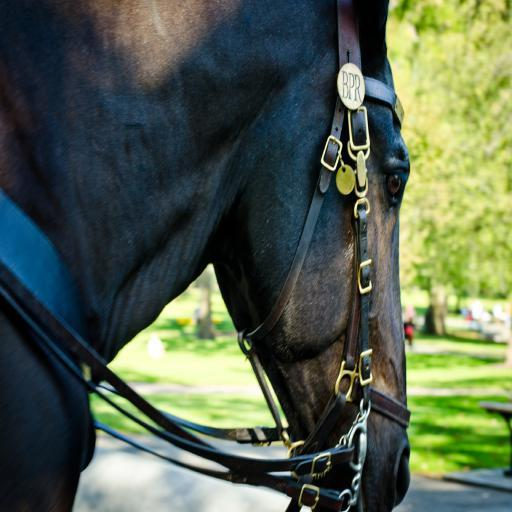Horse: (0, 0, 412, 512)
